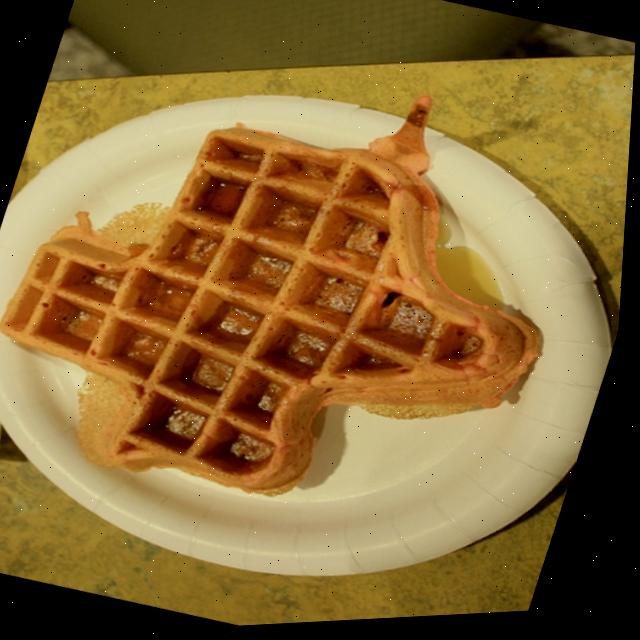炸货点心: (0, 44, 597, 586)
蛋糕甜品: (0, 44, 597, 586)
